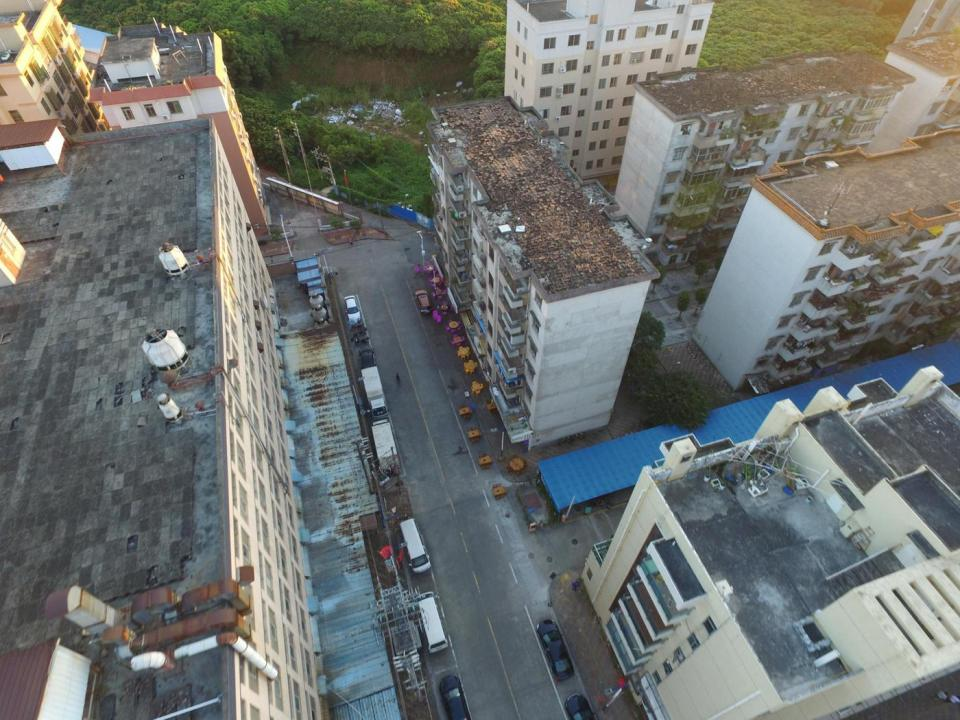car: (535, 618, 576, 681), (438, 674, 473, 720), (564, 693, 598, 720), (358, 345, 378, 374), (414, 289, 434, 316), (344, 294, 362, 322)
truck: (361, 366, 390, 421), (371, 418, 398, 470)
van: (415, 590, 448, 655), (398, 518, 432, 574)
